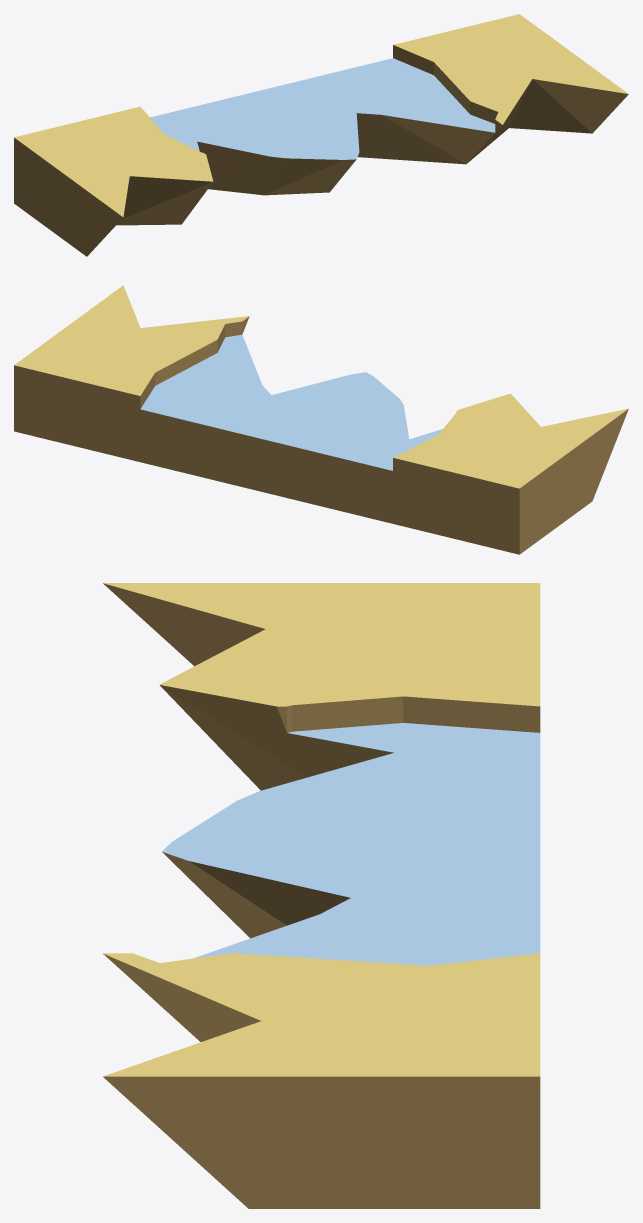
File: Terrain_Tile_Sand_Ledge_River_01.fbx
The picture shows the model from 3 angles, top to bottom: view 1: azimuth 30°, elevation 25°; view 2: azimuth 150°, elevation 25°; view 3: azimuth 270°, elevation 25°; orthographic projection. The views are drawn at different scales.
Visible parts, largest first — view 1: Terrain_Tile_Sand_Ledge_River_01; view 2: Terrain_Tile_Sand_Ledge_River_01; view 3: Terrain_Tile_Sand_Ledge_River_01.
Boxes of the visible parts, x1,y1,x2,y2 form: Terrain_Tile_Sand_Ledge_River_01: (14,14,628,256); Terrain_Tile_Sand_Ledge_River_01: (14,285,628,554); Terrain_Tile_Sand_Ledge_River_01: (103,583,540,1208).
Bounding box in the file's own units: 126 × 15.75 × 47.24.
